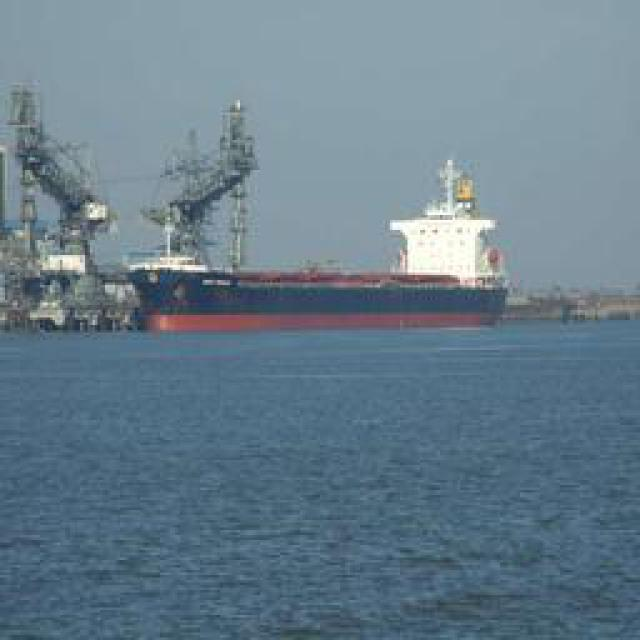Ship: (129, 160, 514, 335)
